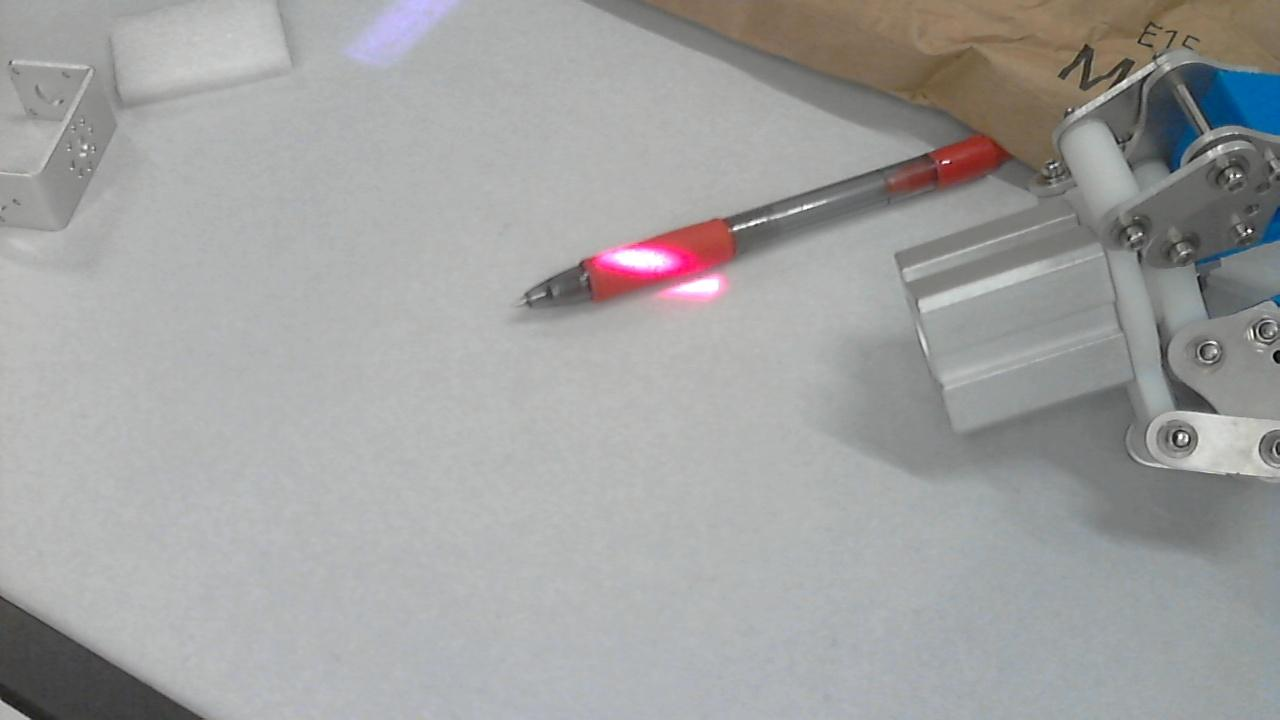Object ballpoint pen - Material rubber - Color red - Pdfname Tg2wygrqE5uZ: (587, 241, 708, 282)
